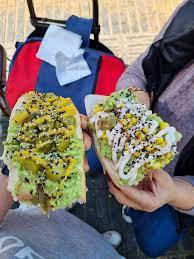Completos: (90, 81, 175, 189), (6, 92, 81, 211)
